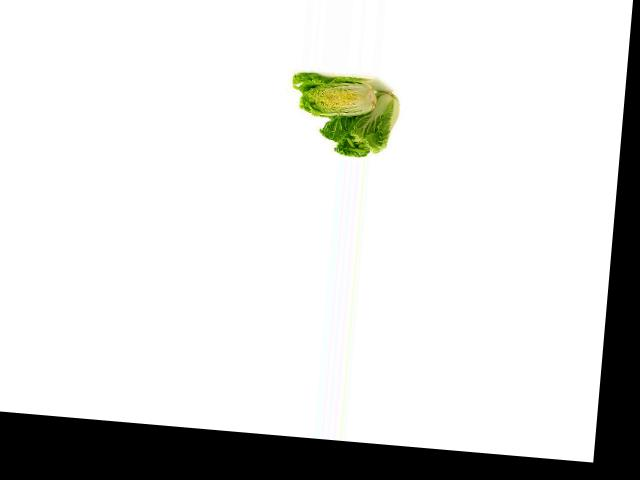lettuce: (313, 81, 402, 163)
